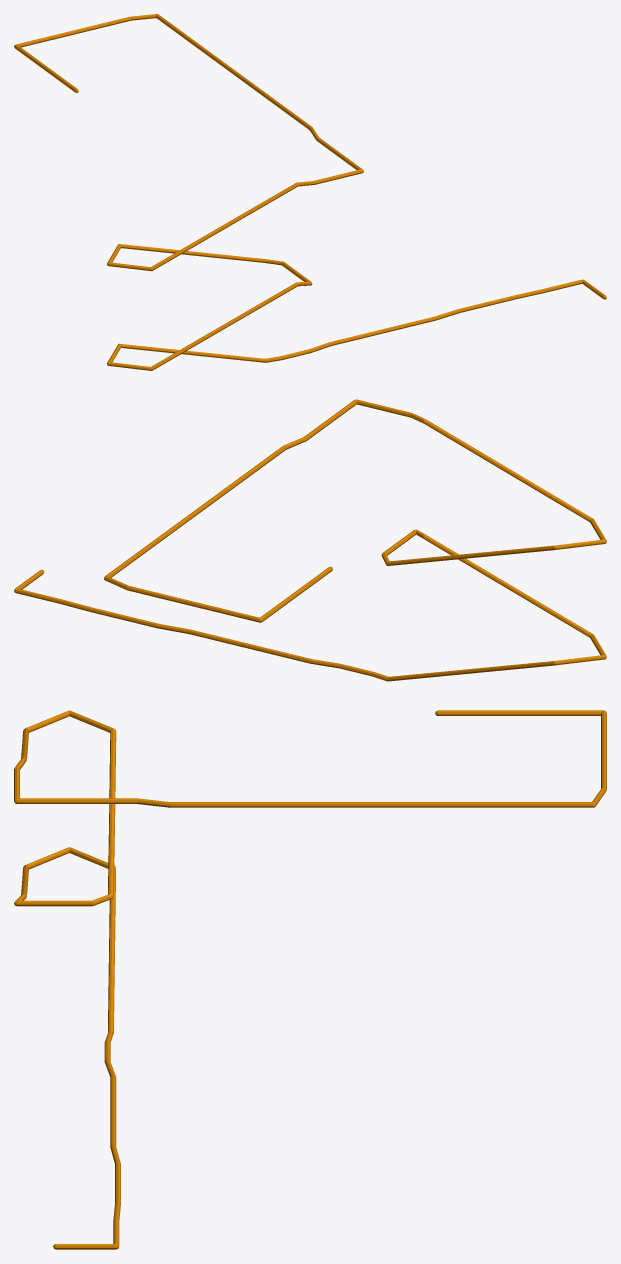
3 views of the same model, one above another, from view 1: azimuth 30°, elevation 25°; view 2: azimuth 150°, elevation 25°; view 3: azimuth 270°, elevation 25° (orthographic). The views are drawn at different scales.
Bounding box in the file's own units: 2595 × 1020 × 1966.
